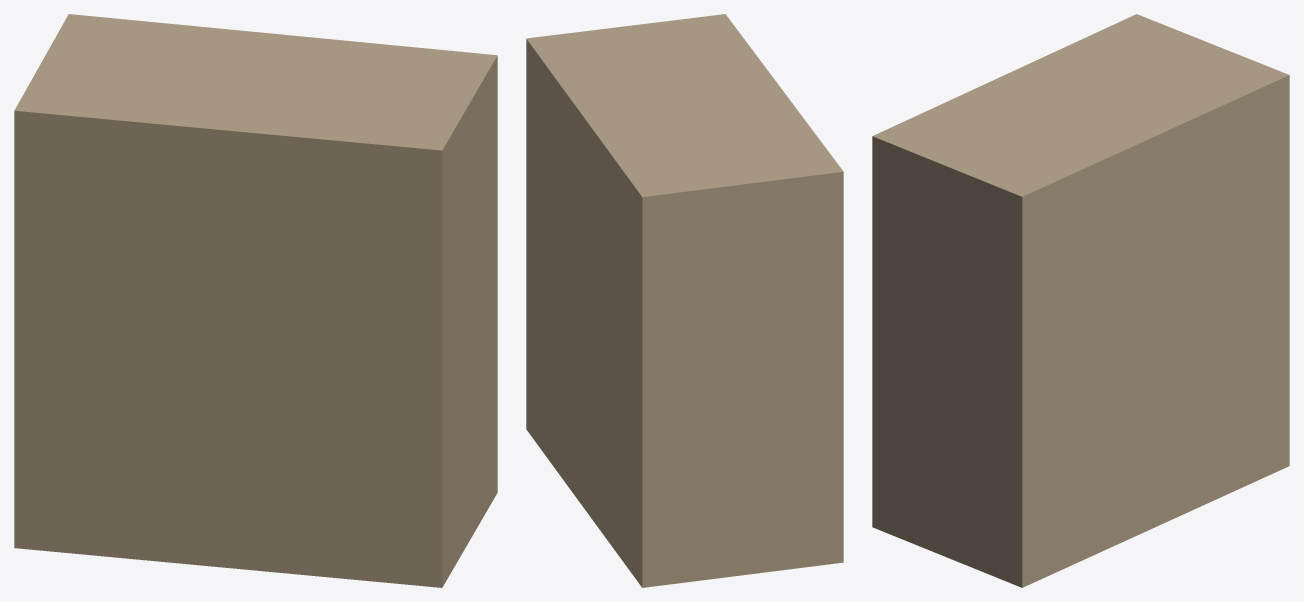
Rendered from bld_99015977.dae.
3 views of the same model, side by side, from view 1: azimuth 30°, elevation 25°; view 2: azimuth 150°, elevation 25°; view 3: azimuth 270°, elevation 25° (orthographic). The views are drawn at different scales.
Parts seen in each view (by area): view 1: bld_99015977; view 2: bld_99015977; view 3: bld_99015977.
Boxes of the visible parts, x1,y1,x2,y2 form: bld_99015977: (14, 14, 497, 587); bld_99015977: (526, 14, 843, 587); bld_99015977: (872, 14, 1289, 587).
Size of the model in its own units: 8.03 by 7.74 by 8.
